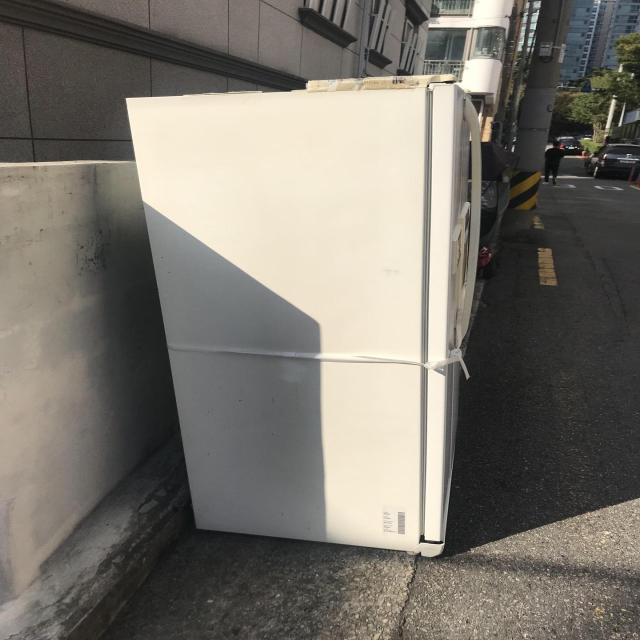refrigerator: (109, 72, 484, 561)
